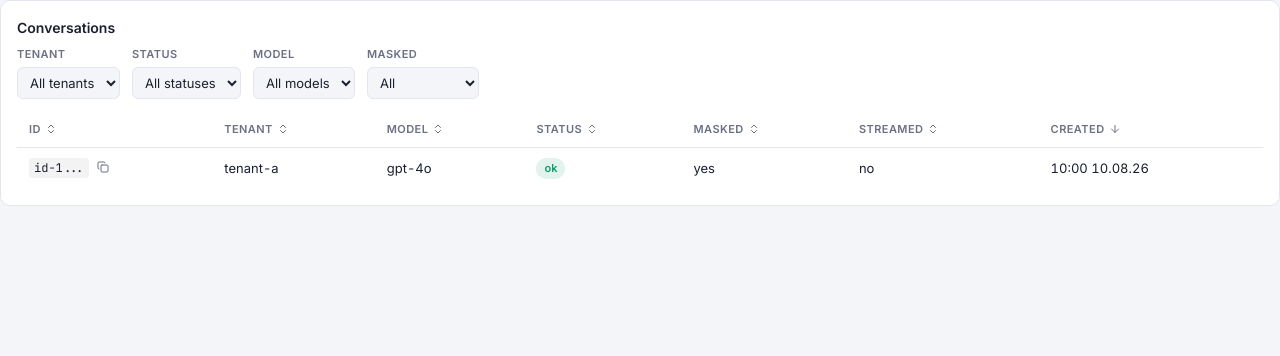
Test: Conversations detail › highlights active row and collapses detail on second click
Click the text "id-1... tenant-a gpt-4o ok yes no 10:00 10.08.26" at x=59, y=168, box [17,148,1263,188]
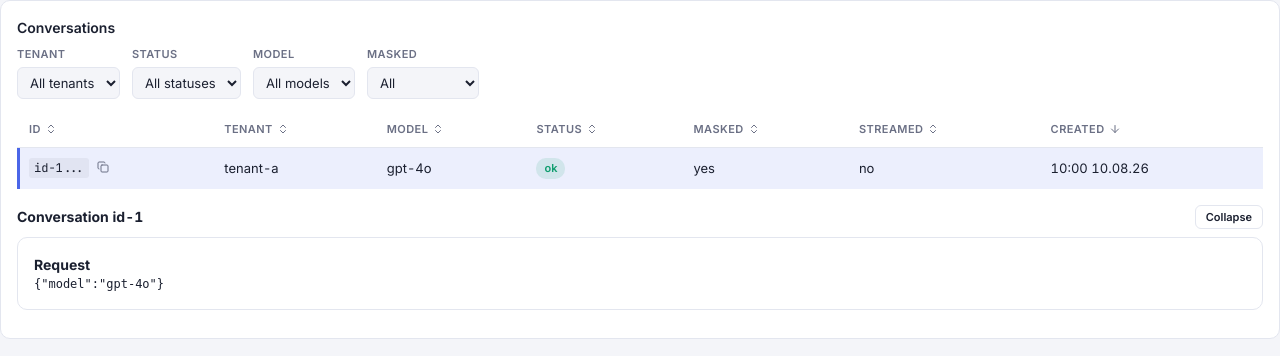
Expected: the button "Collapse" is shown, [1195,204,1263,228]
Click the text "id-1... tenant-a gpt-4o ok yes no 10:00 10.08.26" at x=640, y=168, box [17,148,1263,188]
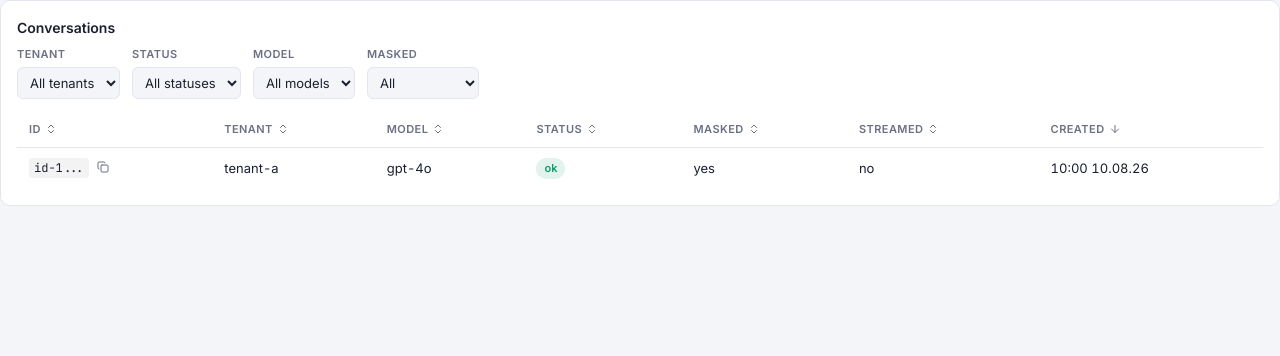
Expected: the button "Collapse" is gone
